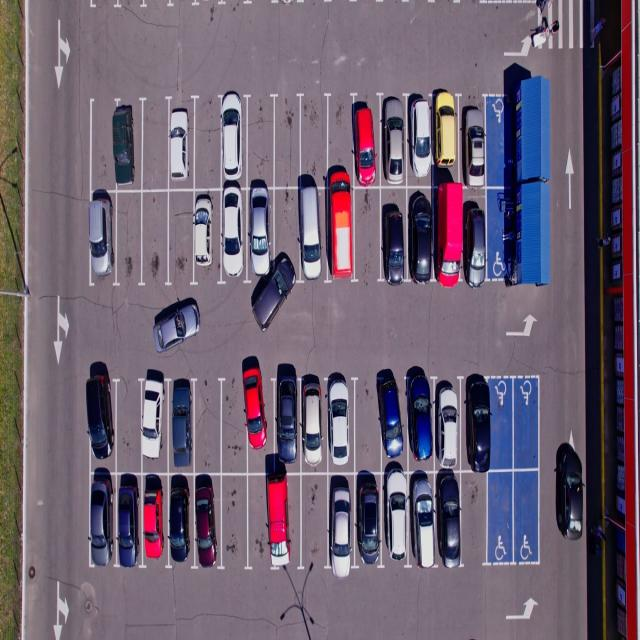space-empty: (193, 93, 227, 189), (114, 376, 148, 472), (272, 186, 305, 283), (352, 185, 385, 281), (485, 469, 517, 566), (218, 375, 250, 472), (192, 378, 225, 472), (297, 472, 329, 568), (84, 97, 116, 193), (246, 96, 279, 189), (296, 96, 330, 186), (354, 373, 385, 471), (139, 97, 172, 189), (510, 377, 541, 473), (514, 469, 545, 564), (140, 190, 172, 282), (272, 95, 304, 186), (326, 96, 358, 186), (115, 190, 146, 282), (219, 472, 249, 566), (462, 469, 491, 566), (169, 190, 199, 282), (487, 375, 516, 470), (247, 474, 276, 569)
space-occupied: (80, 371, 117, 472), (267, 471, 304, 570), (243, 372, 279, 472), (294, 186, 329, 286), (375, 187, 409, 284), (112, 98, 147, 192), (379, 470, 412, 567), (328, 472, 360, 572), (326, 184, 358, 283), (217, 187, 250, 283), (139, 376, 172, 472), (406, 186, 438, 285), (247, 186, 280, 281), (193, 471, 225, 568), (217, 93, 250, 187), (327, 372, 358, 472), (167, 97, 201, 188), (85, 190, 117, 285), (169, 378, 201, 473), (406, 92, 438, 187), (273, 373, 304, 471), (410, 470, 441, 568), (434, 185, 464, 286), (298, 372, 328, 472), (406, 372, 436, 472), (462, 374, 493, 470), (354, 472, 385, 568), (376, 370, 406, 469), (192, 188, 224, 280), (434, 470, 464, 568), (350, 94, 382, 185), (377, 94, 408, 186), (86, 471, 115, 569), (433, 377, 463, 471), (168, 472, 198, 566), (432, 93, 462, 187), (461, 96, 491, 190), (464, 191, 492, 289), (139, 472, 167, 568), (117, 471, 145, 566)
